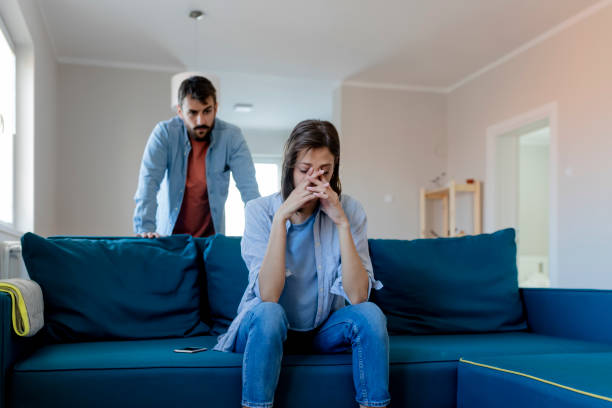without mask: (162, 88, 236, 142)
